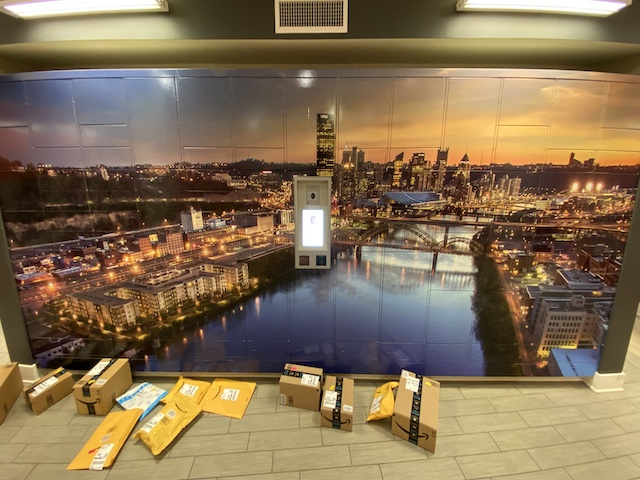package: (393, 369, 440, 451), (73, 359, 132, 414), (23, 367, 74, 414), (279, 362, 323, 410), (321, 376, 354, 430)
